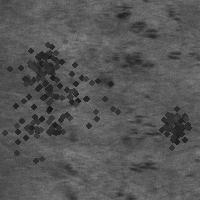rolled-in_scale: (25, 51, 117, 143), (0, 28, 88, 124), (0, 85, 78, 173), (94, 4, 168, 88), (117, 97, 164, 198), (152, 103, 194, 145), (21, 43, 61, 83)
